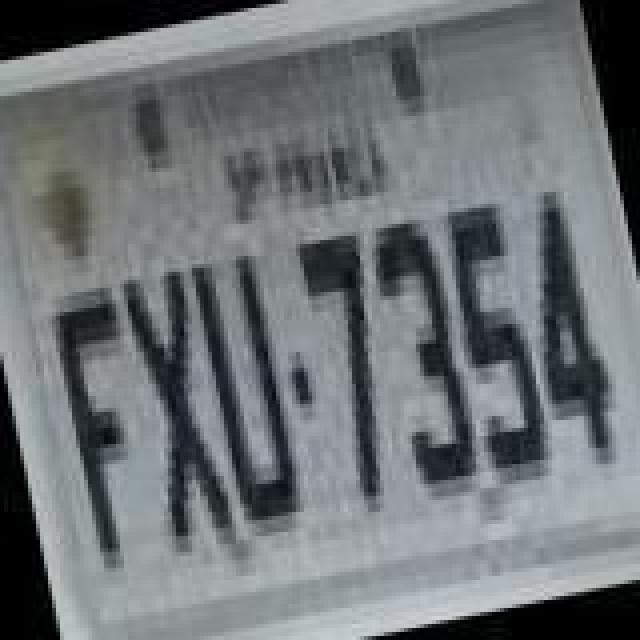3: (362, 208, 486, 504)
4: (504, 178, 632, 478)
5: (434, 196, 558, 492)
7: (290, 218, 414, 518)
F: (42, 288, 166, 568)
U: (186, 246, 310, 538)
X: (112, 256, 240, 560)
